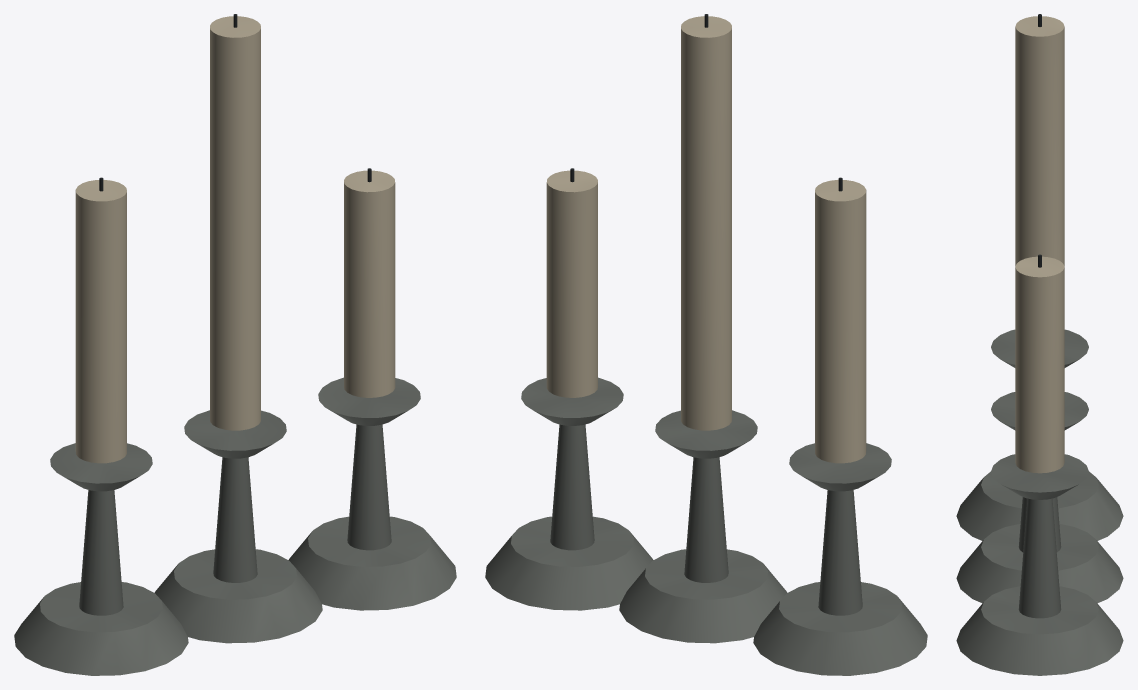
The model's file is prop-candlesticks-v01.glb.
The picture shows the model from 3 angles, left to right: view 1: azimuth 30°, elevation 25°; view 2: azimuth 150°, elevation 25°; view 3: azimuth 270°, elevation 25°; orthographic projection. The views are drawn at different scales.
Parts seen in each view (by area): view 1: candlesticks; view 2: candlesticks; view 3: candlesticks.
Part boxes in pixels (<box>): candlesticks: <box>14,14,456,675</box>; candlesticks: <box>485,14,927,675</box>; candlesticks: <box>956,14,1123,675</box>.
Bounding box in the file's own units: 0.47 × 0.6325 × 0.17.
